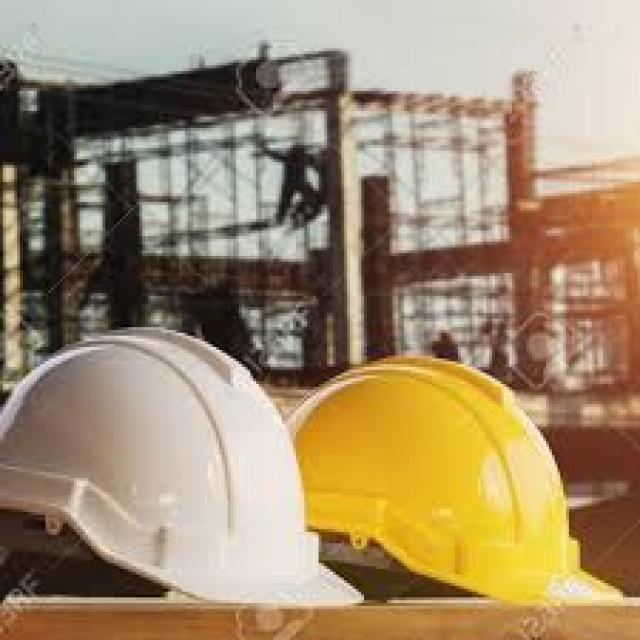Safety-Helmet: (0, 319, 361, 634), (279, 344, 631, 640)
